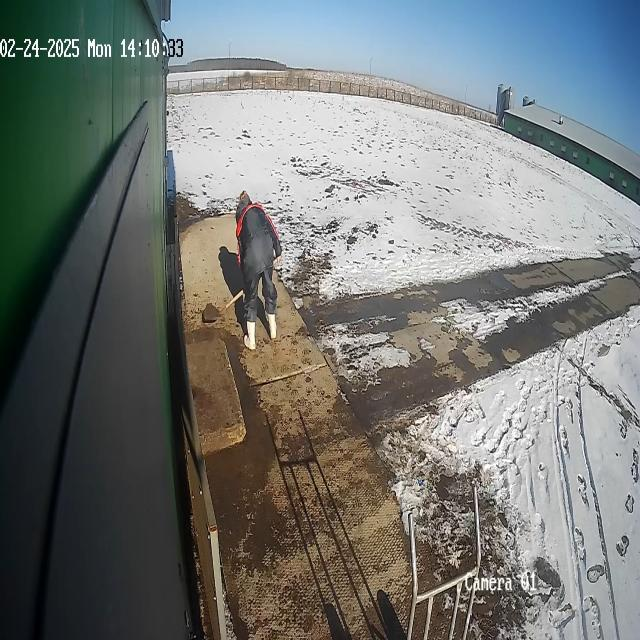Red uniform: (232, 188, 284, 352)
